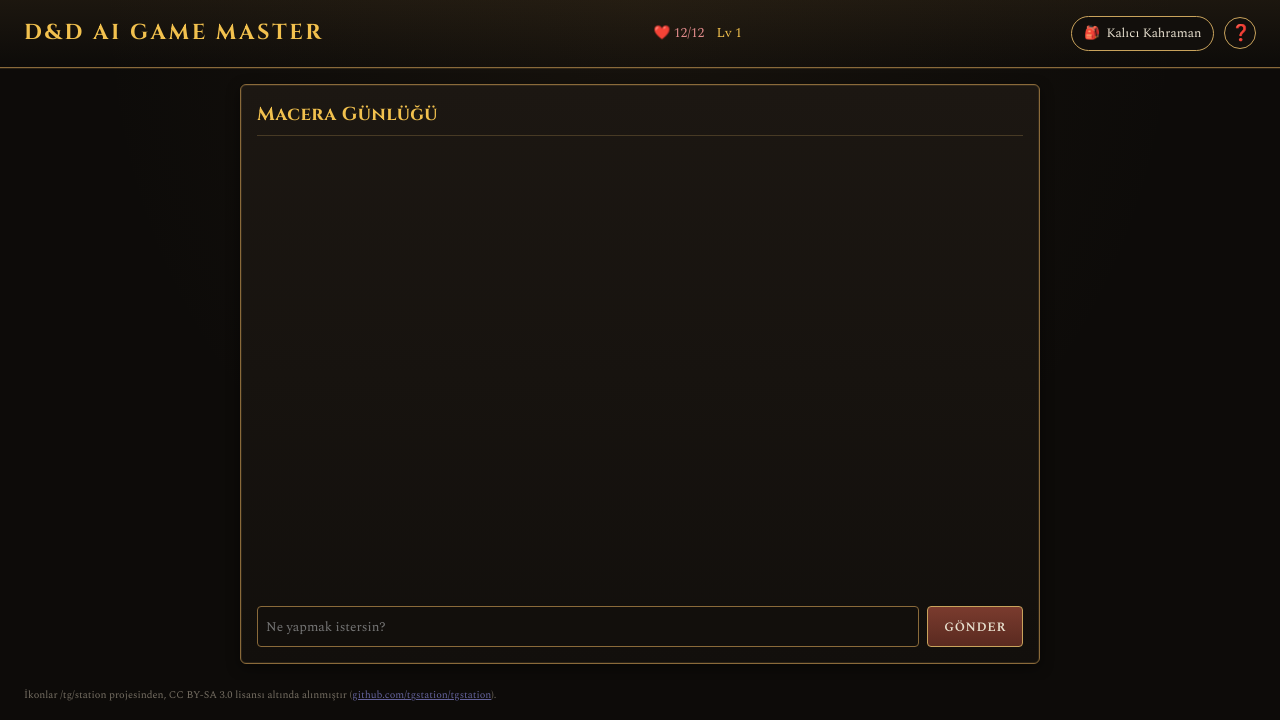
Scenario: App — İnovasyon fikri #103: karakter panelindeki restartError da aria-live taşımalı (fikir #86 ile aynı bug sınıfı) › resetSession() canlı karakterken (karakter paneli üzerinden) başarısız olursa hata mesajı aria-live="polite" ile duyurulur
The width and height of the screenshot is (1280, 720).
Expected: the text "Kalıcı Kahraman" is shown, top-left (1106, 23), bottom-right (1202, 43)
Click the button with aria-label "karakter ve envanteri aç/kapat" at [1143, 33], box top-left (1071, 16), bottom-right (1214, 51)
(page scrolled)
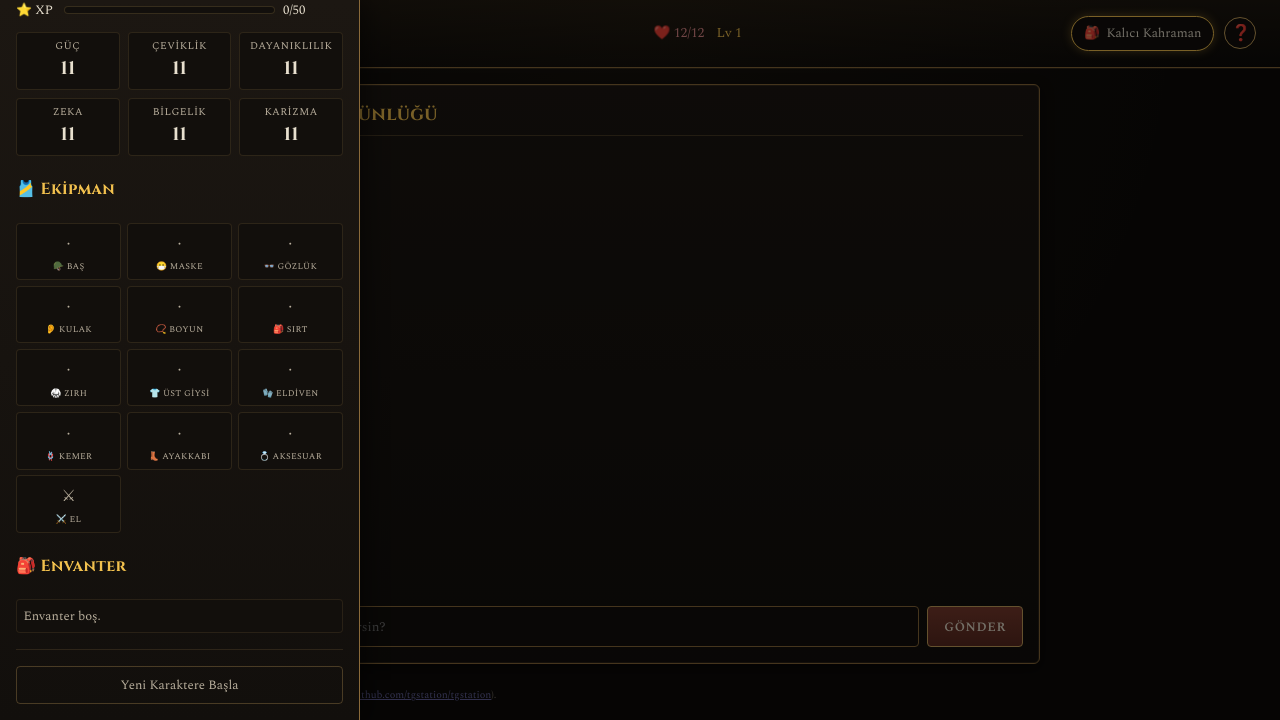
Click the button "Yeni Karaktere Başla" at [180, 685], box top-left (16, 666), bottom-right (343, 704)
(page scrolled)
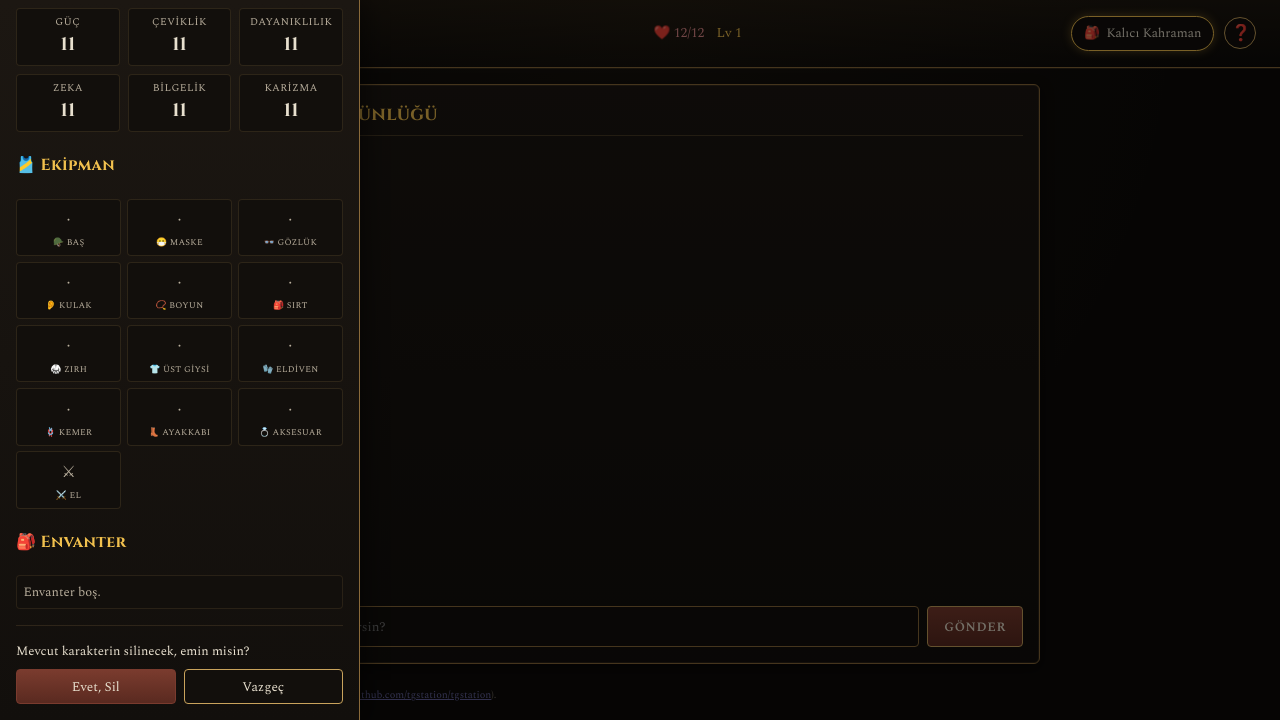
Click the button "Evet, Sil" at [96, 687], box top-left (16, 669), bottom-right (176, 704)
(page scrolled)
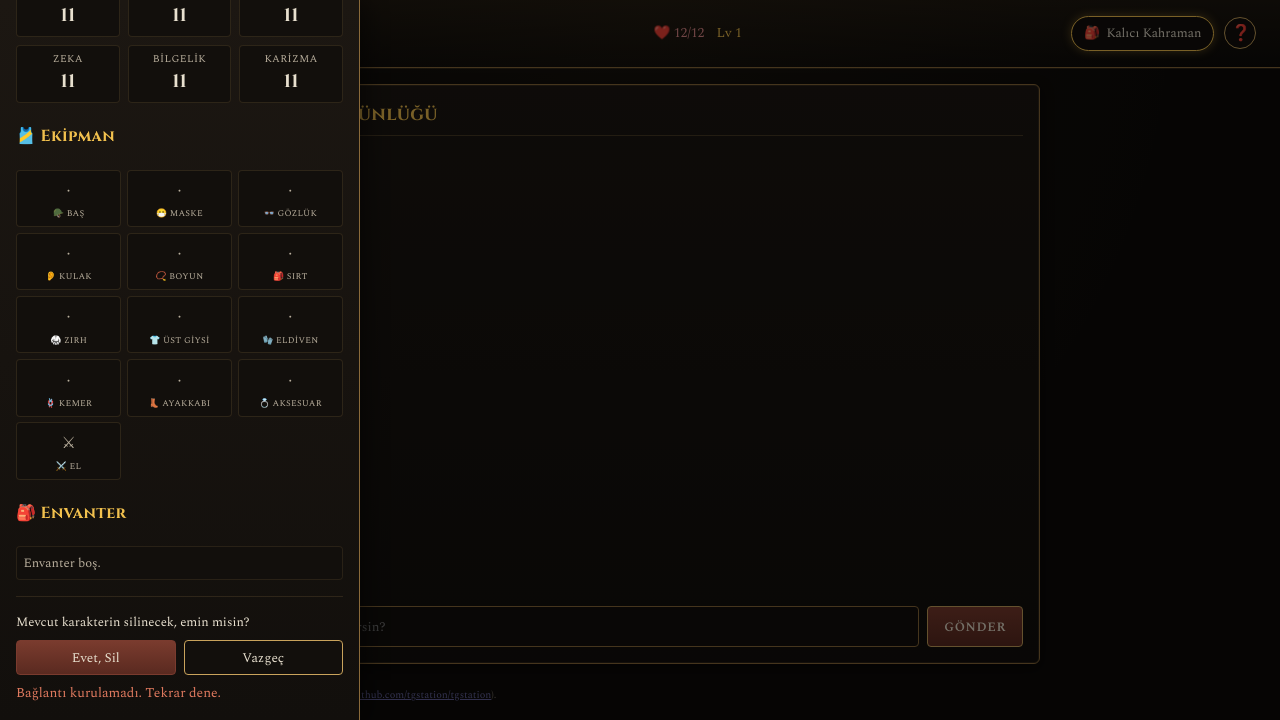
Expected: the text "Bağlantı kurulamadı. Tekrar dene." is shown, top-left (16, 683), bottom-right (221, 703)
